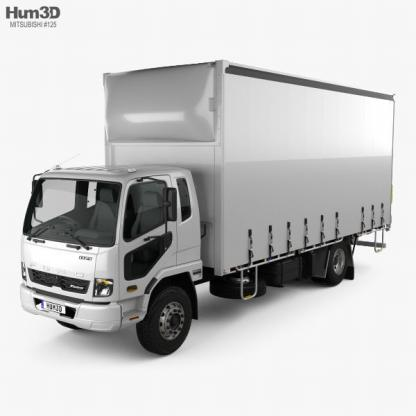truck: (11, 62, 395, 358)
